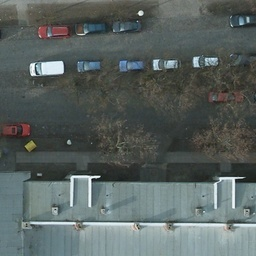car: (206, 88, 244, 105), (0, 120, 34, 138), (38, 22, 70, 39), (75, 20, 106, 36), (113, 18, 142, 35), (194, 52, 221, 70), (116, 58, 149, 72), (76, 57, 103, 72), (152, 58, 180, 70), (0, 24, 1, 41)
van: (30, 60, 66, 76)
